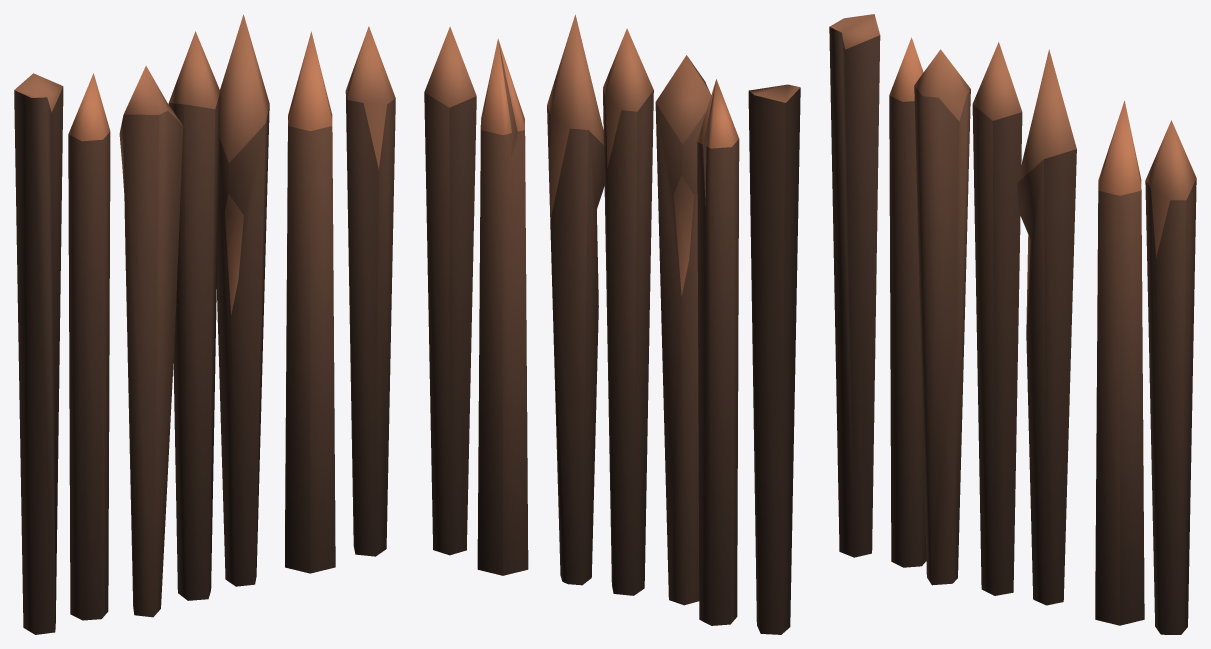
The model's file is Palisade_1A.fbx.
3 views of the same model, side by side, from view 1: azimuth 30°, elevation 25°; view 2: azimuth 150°, elevation 25°; view 3: azimuth 330°, elevation 25° (orthographic). The views are drawn at different scales.
Parts seen in each view (by area): view 1: Palisade_1A; view 2: Palisade_1A; view 3: Palisade_1A.
Part boxes in pixels (x1,y1,x2,y2): Palisade_1A: [14, 14, 395, 634]; Palisade_1A: [424, 14, 800, 634]; Palisade_1A: [829, 14, 1196, 634].
Bounding box in the file's own units: 192 × 283 × 35.44.
